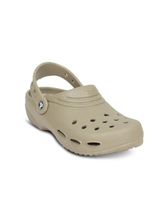shoes: (15, 64, 147, 157)
